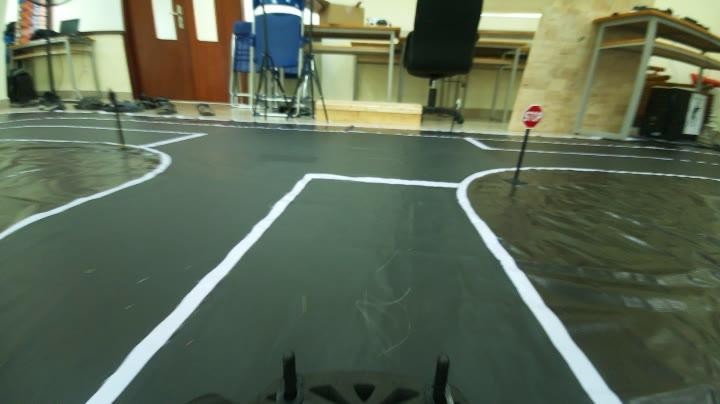stop: (518, 98, 550, 133)
